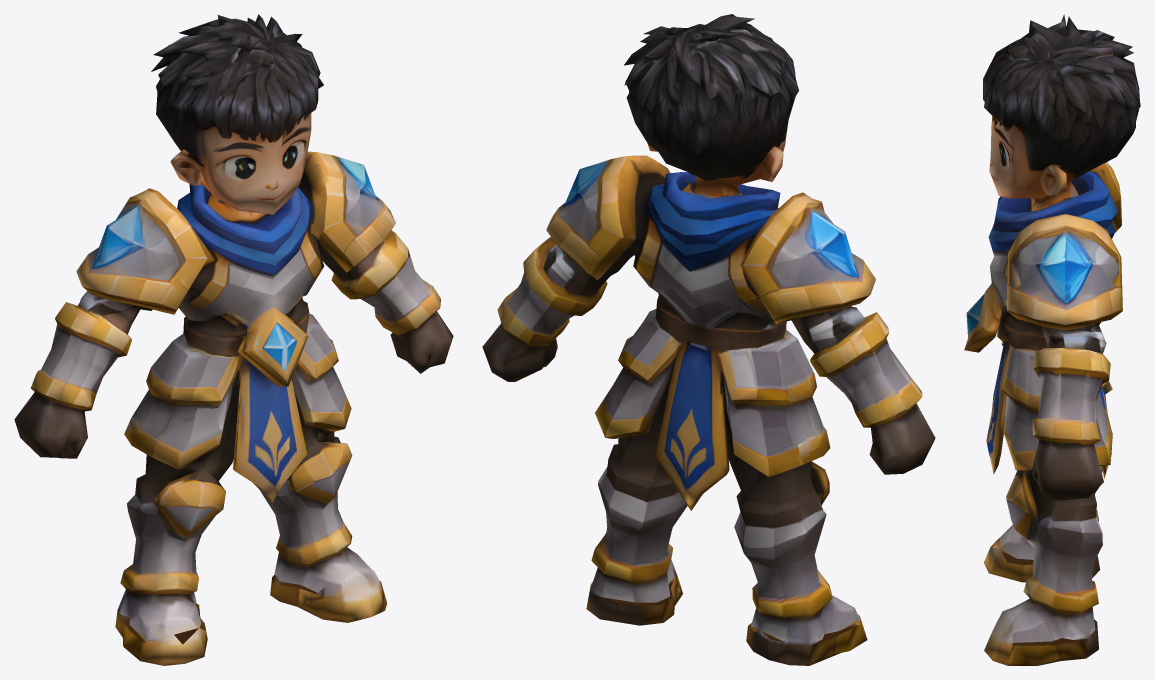
Rendered from duy_anh_mixamo.fbx.
3 views of the same model, side by side, from view 1: azimuth 30°, elevation 25°; view 2: azimuth 150°, elevation 25°; view 3: azimuth 270°, elevation 25° (orthographic). The views are drawn at different scales.
Visible parts, largest first — view 1: tripo_node_0cf998f3-a7f2-4be9-b17e-f329eee84d5d; view 2: tripo_node_0cf998f3-a7f2-4be9-b17e-f329eee84d5d; view 3: tripo_node_0cf998f3-a7f2-4be9-b17e-f329eee84d5d.
Boxes of the visible parts, box(x1,y1,x2,y2) form: tripo_node_0cf998f3-a7f2-4be9-b17e-f329eee84d5d: box(14, 14, 453, 665); tripo_node_0cf998f3-a7f2-4be9-b17e-f329eee84d5d: box(482, 14, 935, 665); tripo_node_0cf998f3-a7f2-4be9-b17e-f329eee84d5d: box(964, 14, 1140, 665).
Bounding box in the file's own units: 66.06 × 88.09 × 24.39.
1 material, 1 textured.
